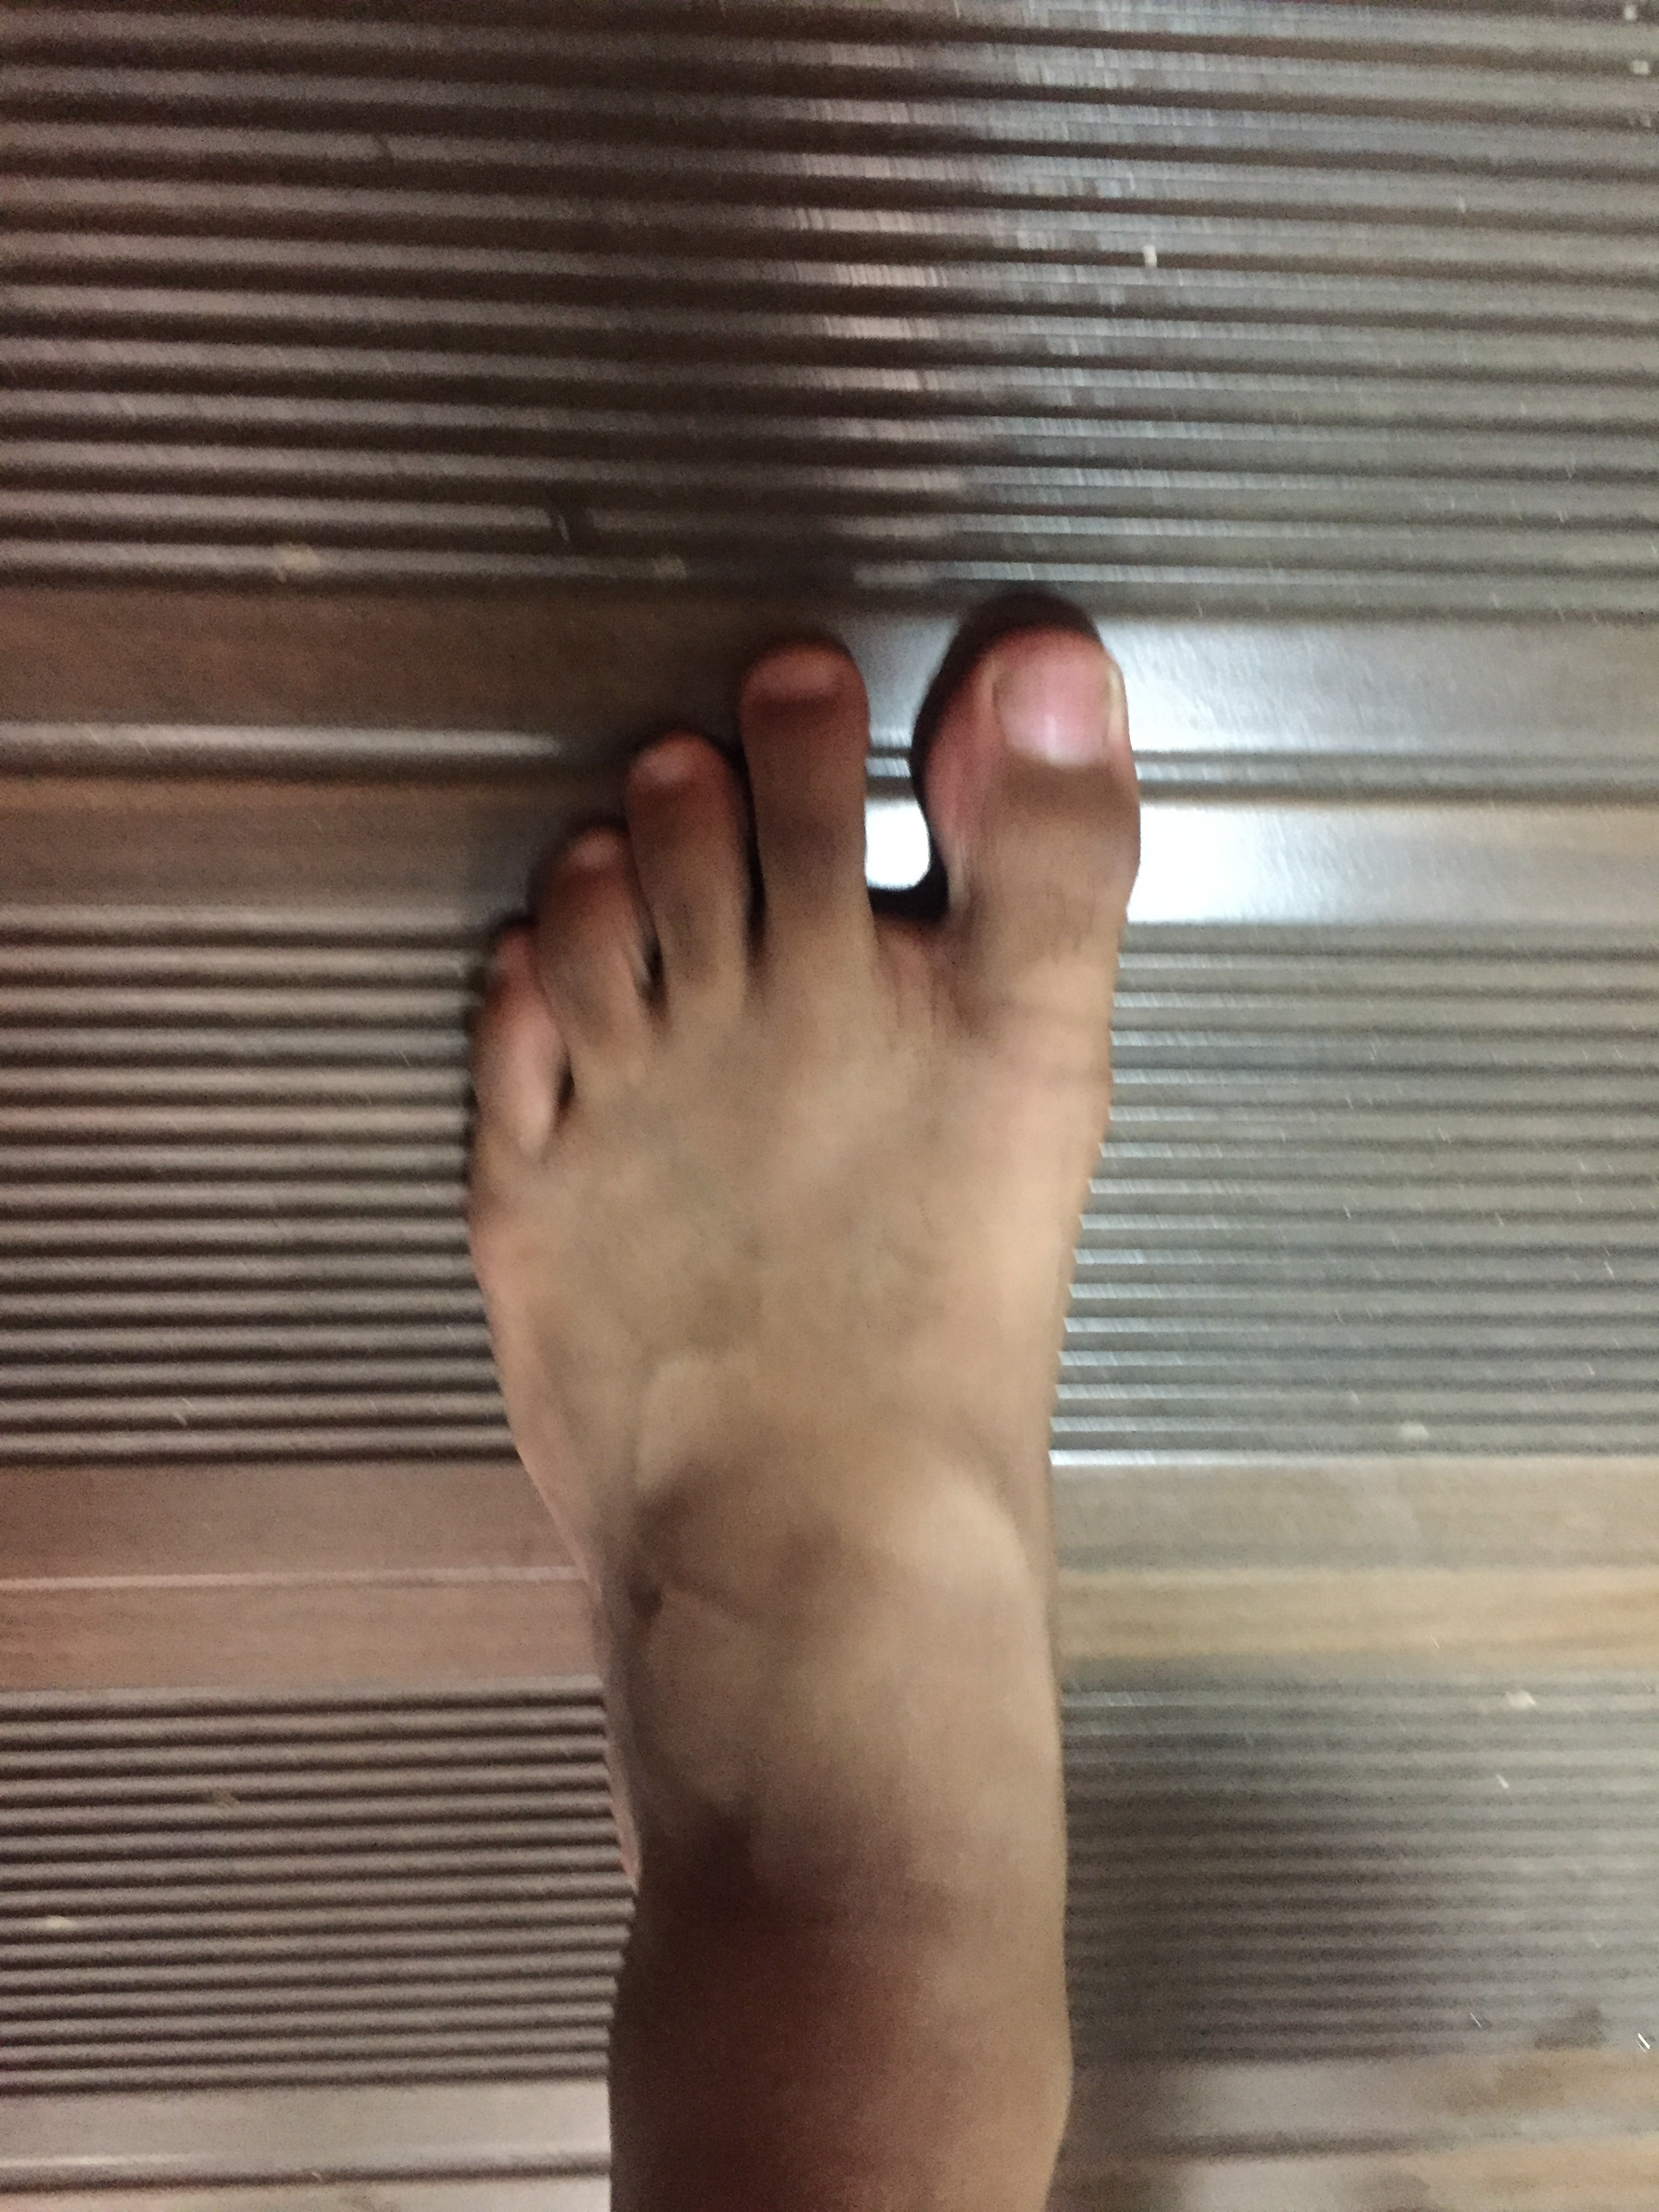feet: (296, 589, 1159, 2107)
